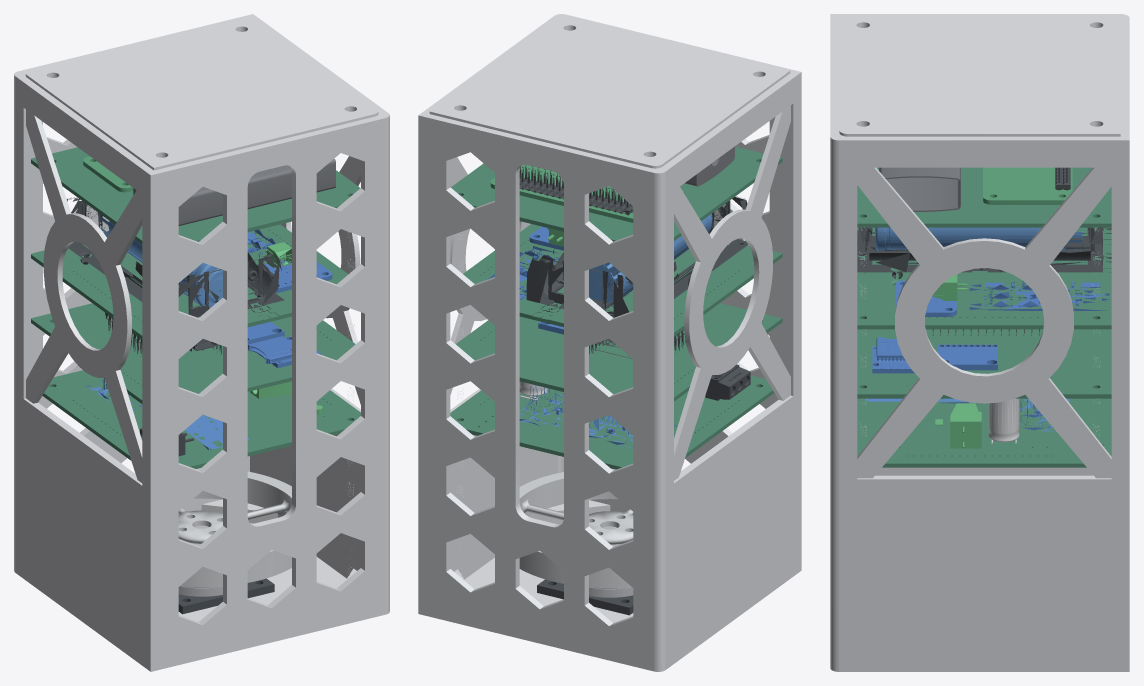
File: fcp01.glb
3 views of the same model, side by side, from view 1: azimuth 30°, elevation 25°; view 2: azimuth 150°, elevation 25°; view 3: azimuth 270°, elevation 25° (orthographic). The views are drawn at different scales.
Parts seen in each view (by area): view 1: estrutura_ls__alu, estrutura_no__alu, tampa_sup__alu, eps_reg__pcb, obc__pcb, payload__pcb, eps_ger__pcb, adcs__wheelmat, eps_ger__dark, payload__rtl, obc__pcbblue, tampa_inf__alu (+5 smaller); view 2: estrutura_no__alu, tampa_sup__alu, estrutura_ls__alu, eps_reg__pcb, obc__pcb, payload__pcb, eps_ger__pcb, adcs__wheelmat, eps_ger__dark, payload__dark, tampa_inf__alu, payload__pcb2 (+6 smaller); view 3: estrutura_ls__alu, tampa_sup__alu, eps_reg__pcb, eps_ger__pcb, obc__pcb, payload__pcb, eps_ger__dark, estrutura_no__alu, payload__pcb2, payload__rtl, obc__pcbblue, eps_ger__pcbblue (+5 smaller).
Part boxes in pixels (x1=…): estrutura_ls__alu: x1=154, y1=14, x2=389, y2=669; estrutura_no__alu: x1=14, y1=16, x2=269, y2=671; tampa_sup__alu: x1=25, y1=16, x2=378, y2=170; eps_reg__pcb: x1=42, y1=370, x2=360, y2=468; obc__pcb: x1=31, y1=303, x2=355, y2=403; payload__pcb: x1=31, y1=147, x2=360, y2=244; eps_ger__pcb: x1=31, y1=224, x2=348, y2=339; adcs__wheelmat: x1=178, y1=468, x2=291, y2=586; eps_ger__dark: x1=67, y1=197, x2=284, y2=317; payload__rtl: x1=133, y1=158, x2=335, y2=225; obc__pcbblue: x1=247, y1=321, x2=321, y2=367; tampa_inf__alu: x1=178, y1=557, x2=346, y2=621; estrutura_no__alu: x1=425, y1=70, x2=801, y2=671; tampa_sup__alu: x1=429, y1=16, x2=790, y2=168; estrutura_ls__alu: x1=418, y1=14, x2=793, y2=615; eps_reg__pcb: x1=450, y1=375, x2=774, y2=469; obc__pcb: x1=456, y1=303, x2=782, y2=401; payload__pcb: x1=451, y1=146, x2=782, y2=241; eps_ger__pcb: x1=463, y1=224, x2=782, y2=336; adcs__wheelmat: x1=519, y1=468, x2=633, y2=587; eps_ger__dark: x1=526, y1=196, x2=748, y2=317; payload__dark: x1=519, y1=165, x2=633, y2=215; tampa_inf__alu: x1=464, y1=557, x2=633, y2=622; payload__pcb2: x1=490, y1=164, x2=684, y2=222; estrutura_ls__alu: x1=830, y1=17, x2=1129, y2=671; tampa_sup__alu: x1=839, y1=15, x2=1120, y2=136; eps_reg__pcb: x1=857, y1=398, x2=1111, y2=467; eps_ger__pcb: x1=857, y1=227, x2=1111, y2=329; obc__pcb: x1=857, y1=329, x2=1111, y2=398; payload__pcb: x1=857, y1=167, x2=1111, y2=227; eps_ger__dark: x1=857, y1=227, x2=1111, y2=278; estrutura_no__alu: x1=830, y1=14, x2=1129, y2=475; payload__pcb2: x1=983, y1=167, x2=1072, y2=204; payload__rtl: x1=879, y1=167, x2=960, y2=211; obc__pcbblue: x1=872, y1=337, x2=997, y2=373; eps_ger__pcbblue: x1=895, y1=280, x2=1109, y2=316.
Size of the model in its own units: 0.1 by 0.197 by 0.1.
